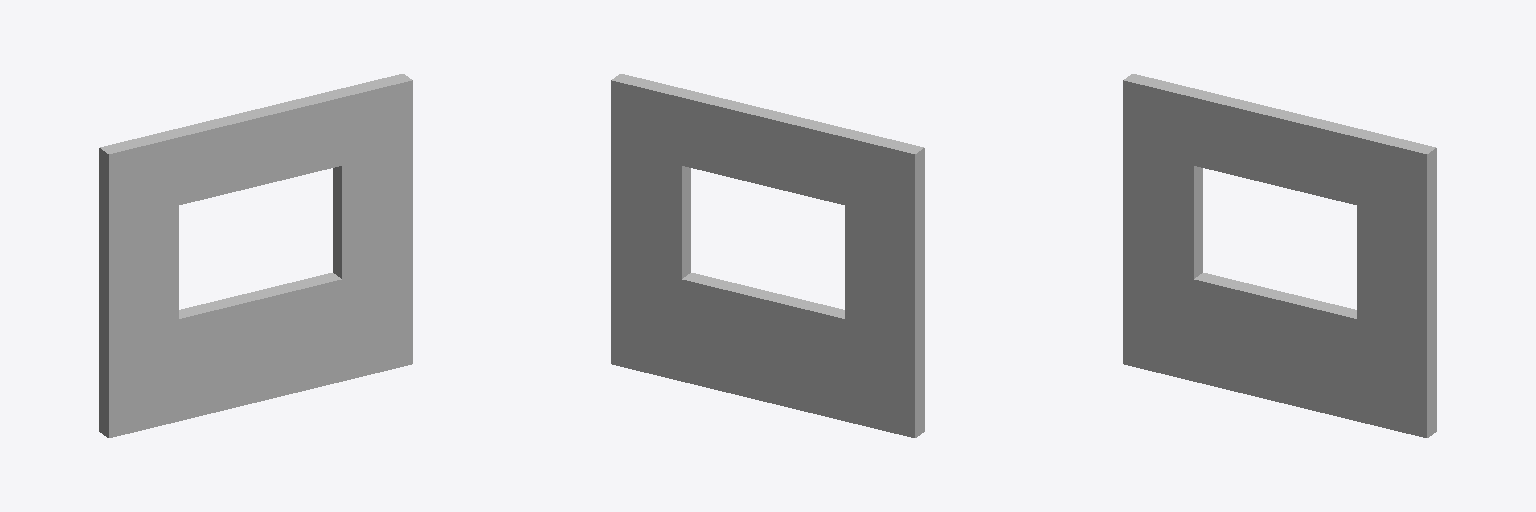
File: wall_b.obj
3 views of the same model, side by side, from view 1: azimuth 30°, elevation 25°; view 2: azimuth 150°, elevation 25°; view 3: azimuth 330°, elevation 25° (orthographic).
Visible parts, largest first — view 1: Mesh1 wall_b1 Model; view 2: Mesh1 wall_b1 Model; view 3: Mesh1 wall_b1 Model.
Part boxes in pixels (bbox=[...]): Mesh1 wall_b1 Model: bbox=[99, 74, 412, 437]; Mesh1 wall_b1 Model: bbox=[611, 74, 924, 437]; Mesh1 wall_b1 Model: bbox=[1123, 74, 1436, 437].
Bounding box in the file's own units: 2.8 × 2.5 × 0.15.